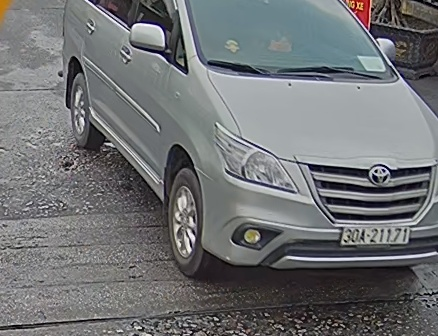vehicle plate: (338, 221, 415, 252)
